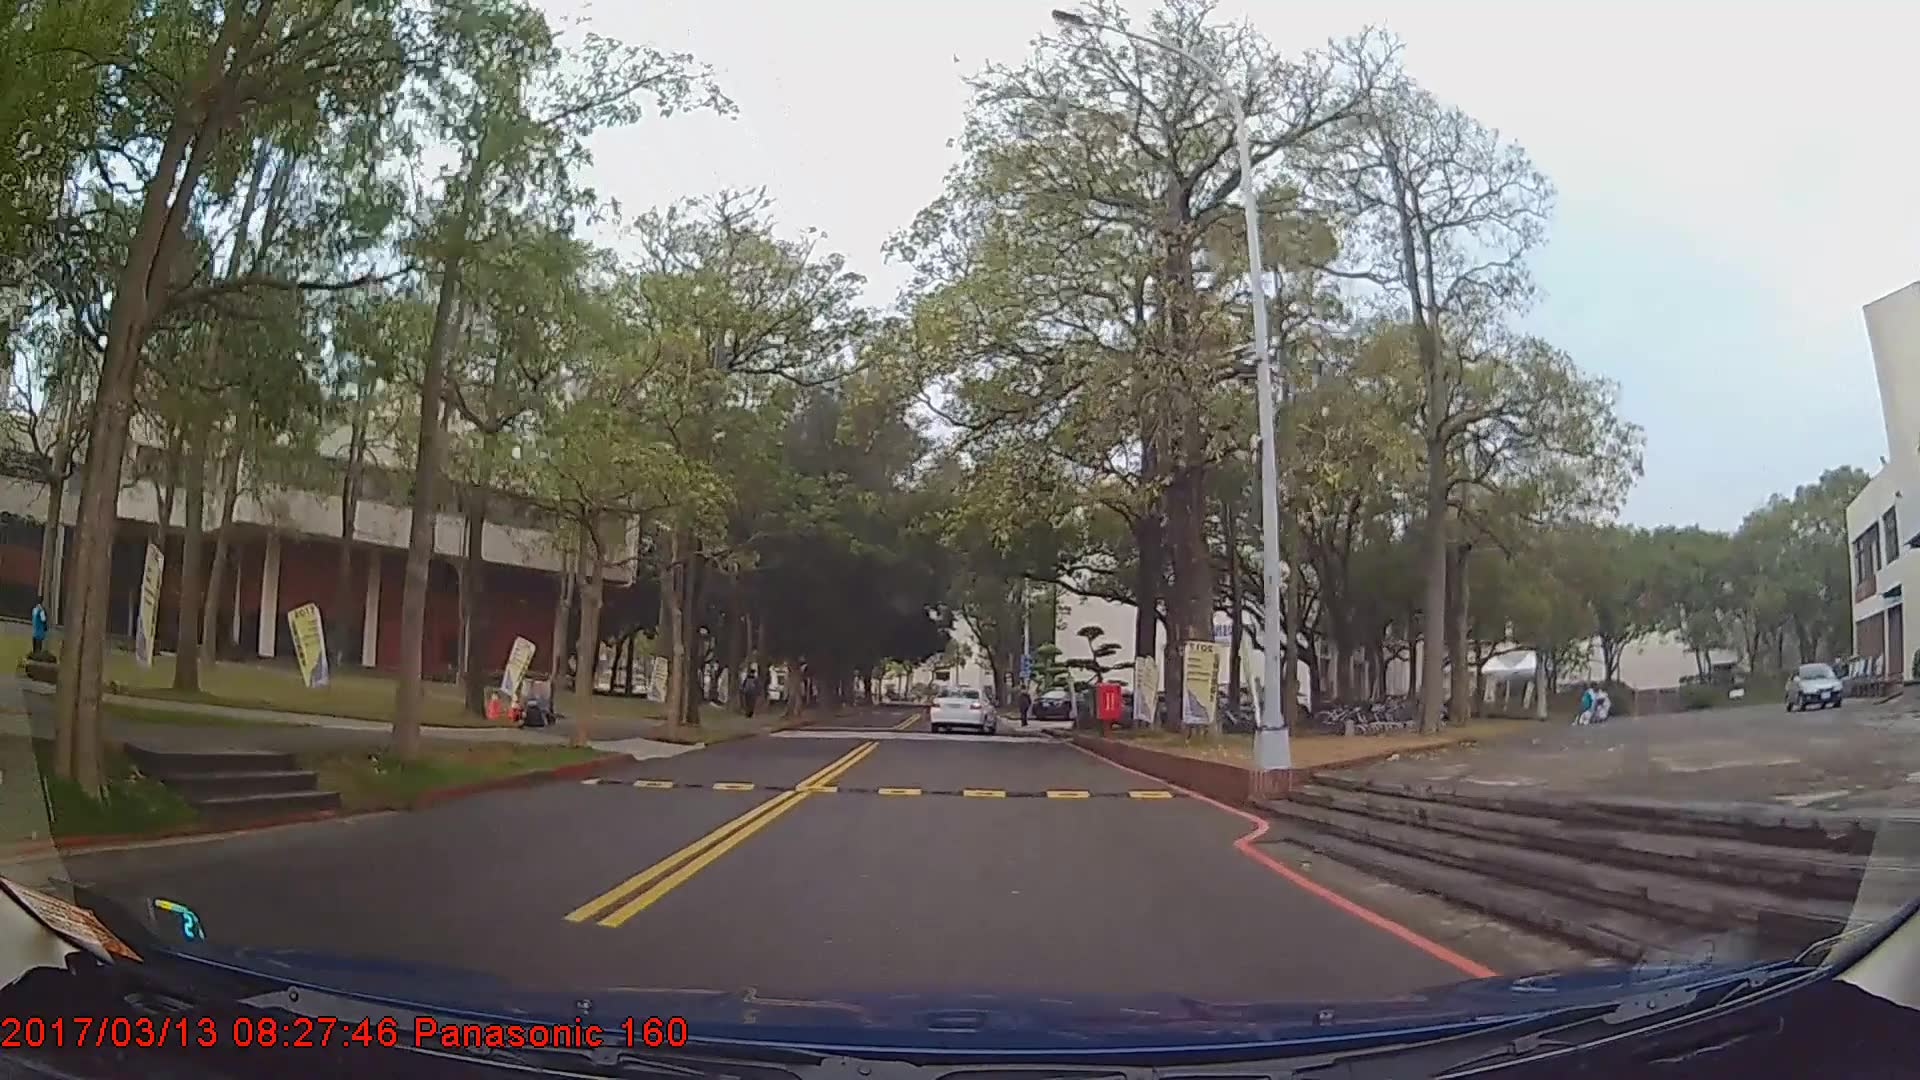pedestrian: (29, 594, 54, 675), (740, 668, 763, 721)
vehicle: (1781, 658, 1854, 713), (929, 684, 997, 734), (1032, 687, 1087, 719)
